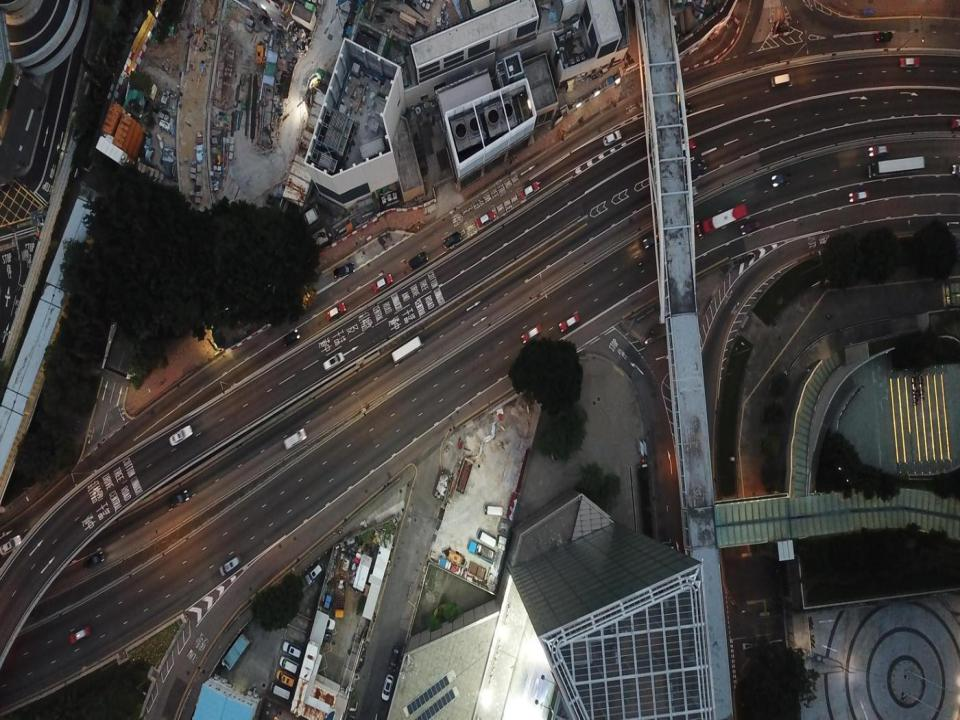bus: (697, 204, 748, 235), (392, 337, 421, 363)
car: (168, 425, 192, 447), (0, 534, 21, 554), (643, 232, 667, 249), (522, 324, 541, 344), (559, 313, 579, 332), (70, 625, 90, 643), (325, 302, 346, 319), (83, 551, 104, 568), (170, 490, 190, 507), (372, 275, 393, 291), (381, 674, 393, 702), (476, 210, 495, 227), (770, 172, 790, 187), (602, 131, 622, 145), (675, 141, 696, 154), (318, 614, 335, 630), (670, 103, 692, 115), (388, 647, 399, 671), (284, 330, 300, 346), (521, 183, 538, 198), (868, 144, 889, 156), (849, 191, 871, 202), (875, 31, 893, 42), (900, 57, 918, 68), (316, 632, 332, 644)
truck: (868, 156, 925, 176), (283, 428, 307, 448), (476, 529, 496, 546), (270, 683, 291, 699), (275, 670, 295, 686), (484, 505, 503, 516), (952, 119, 960, 130)
van: (304, 562, 324, 584), (219, 556, 240, 574), (322, 353, 344, 370), (408, 251, 427, 269), (283, 640, 301, 658), (279, 656, 298, 673), (333, 264, 355, 278), (770, 73, 791, 87), (443, 233, 461, 249)
